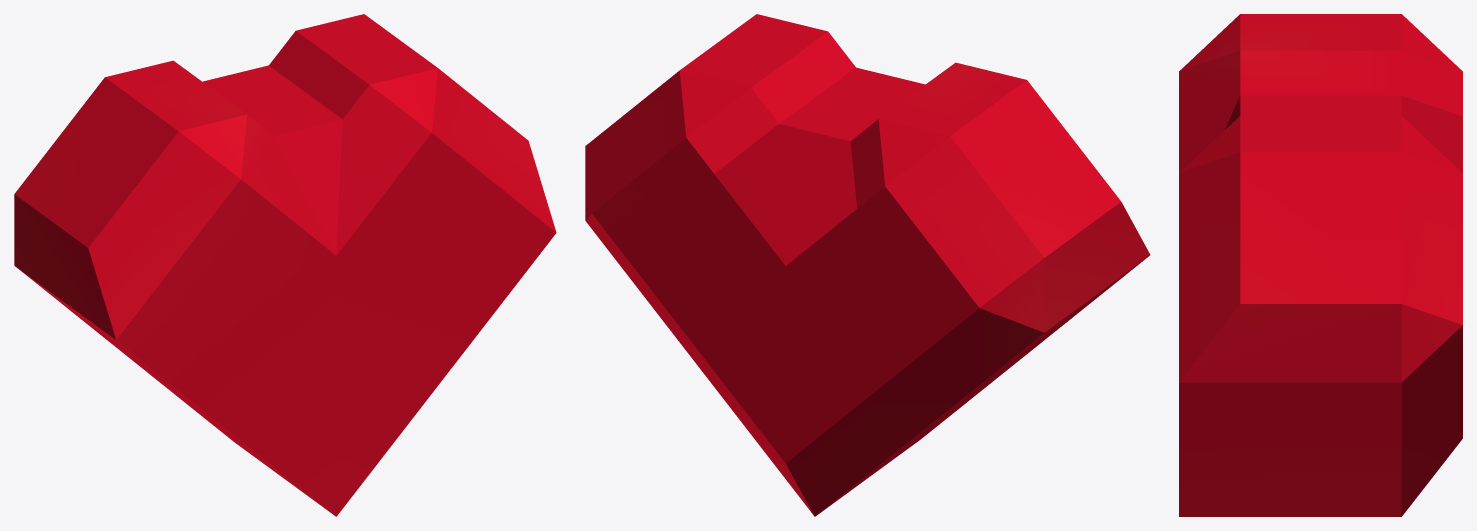
Rendered from heartModel.fbx.
3 views of the same model, side by side, from view 1: azimuth 30°, elevation 25°; view 2: azimuth 150°, elevation 25°; view 3: azimuth 270°, elevation 25° (orthographic). The views are drawn at different scales.
Parts seen in each view (by area): view 1: Cube; view 2: Cube; view 3: Cube.
Boxes of the visible parts, bbox=[...] form: Cube: bbox=[14, 14, 556, 516]; Cube: bbox=[585, 14, 1150, 516]; Cube: bbox=[1179, 14, 1462, 516].
Bounding box in the file's own units: 392 × 337 × 200.
